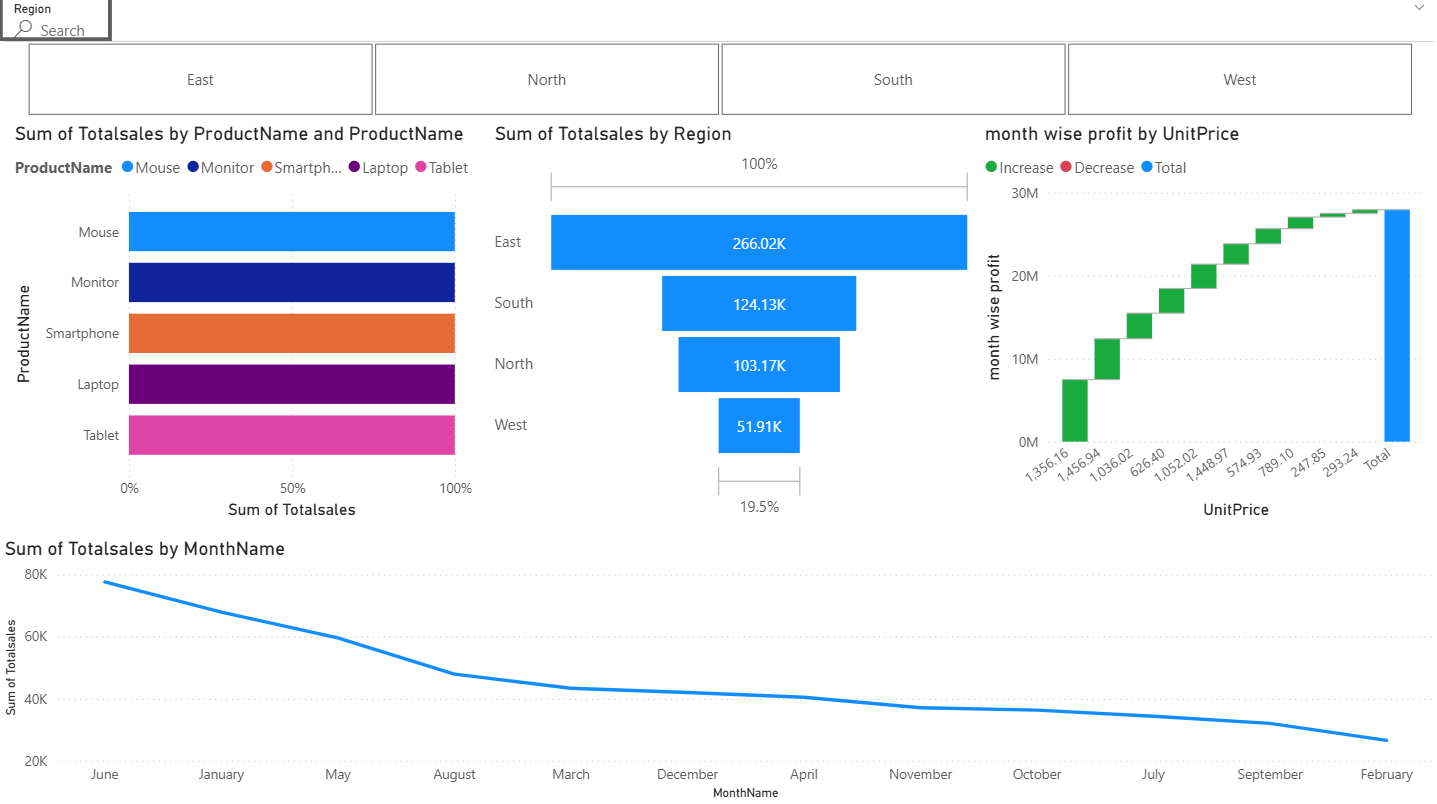

What the dashboard file says about the page in this screenshot:
{"tool":"powerbi","page":{"name":"Page 1","canvas":[1280,720],"ordinal":0},"visuals":[{"type":"hundredPercentStackedBarChart","fields":{"Category":["Dim_Products.ProductName"],"Y":["Sum(Fact_Sales.Totalsales)"],"Series":["Dim_Products.ProductName"]},"box":[9.4,111.8,416.5,357.6],"z":0},{"type":"lineChart","fields":{"Category":["Dim_Date.MonthName"],"Y":["Sum(Fact_Sales.Totalsales)"]},"box":[0,481.2,1280,238.8],"z":1000},{"type":"funnel","fields":{"Category":["Dim_Customers.Region"],"Y":["Sum(Fact_Sales.Totalsales)"]},"box":[435.3,111.8,435.3,357.6],"z":2000},{"type":"waterfallChart","fields":{"Y":["Fact_Sales.month wise profit"],"Category":["Dim_Products.UnitPrice"]},"box":[870.6,111.8,400,357.6],"z":3000},{"type":"slicer","fields":{"Values":["Dim_Customers.Region"]},"box":[0,0,1280,112.2],"z":4000},{"type":"actionButton","box":[0,0,100,40],"z":5000},{"type":"actionButton","box":[0,0,100,40],"z":6000},{"type":"actionButton","box":[0,0,100,40],"z":7000}]}

Visuals, with their boxes on the page's 1280x720 design canvas (x1, y1, x2, y2). These are canvas units, not pixel positions in the 1437x804 screenshot, which may show the page scaled, cropped or inside an application window:
hundredPercentStackedBarChart - Dim_Products.ProductName x Sum(Fact_Sales.Totalsales): 9,112,426,469
lineChart - Dim_Date.MonthName x Sum(Fact_Sales.Totalsales): 0,481,1280,720
funnel - Dim_Customers.Region x Sum(Fact_Sales.Totalsales): 435,112,871,469
waterfallChart - Fact_Sales.month wise profit x Dim_Products.UnitPrice: 871,112,1271,469
slicer - Dim_Customers.Region: 0,0,1280,112
actionButton: 0,0,100,40
actionButton: 0,0,100,40
actionButton: 0,0,100,40
